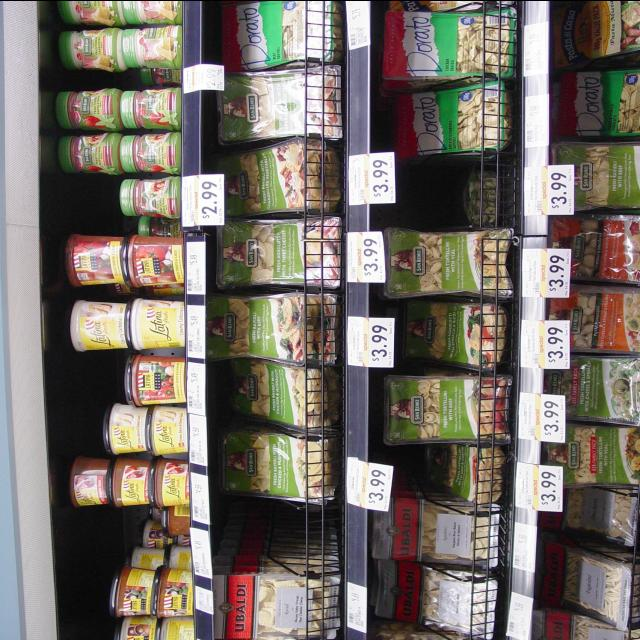empty_space: (417, 159, 499, 221), (240, 503, 329, 553)
